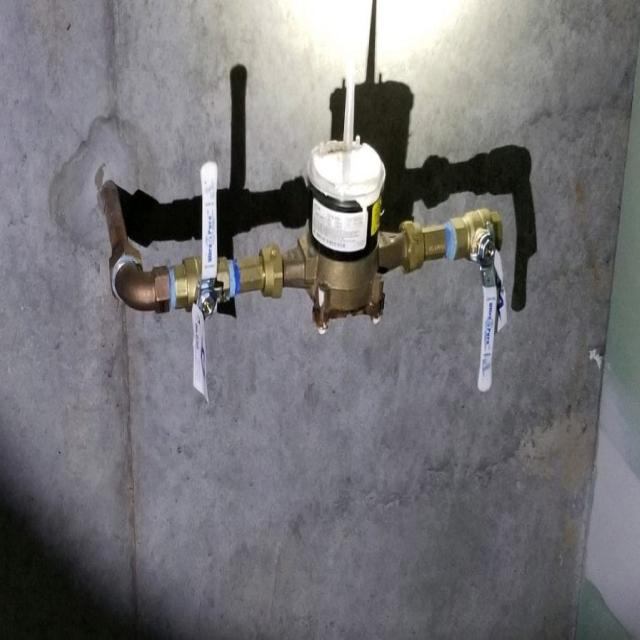Lever Handle Valve Threaded: (172, 159, 236, 308), (452, 207, 502, 393)
